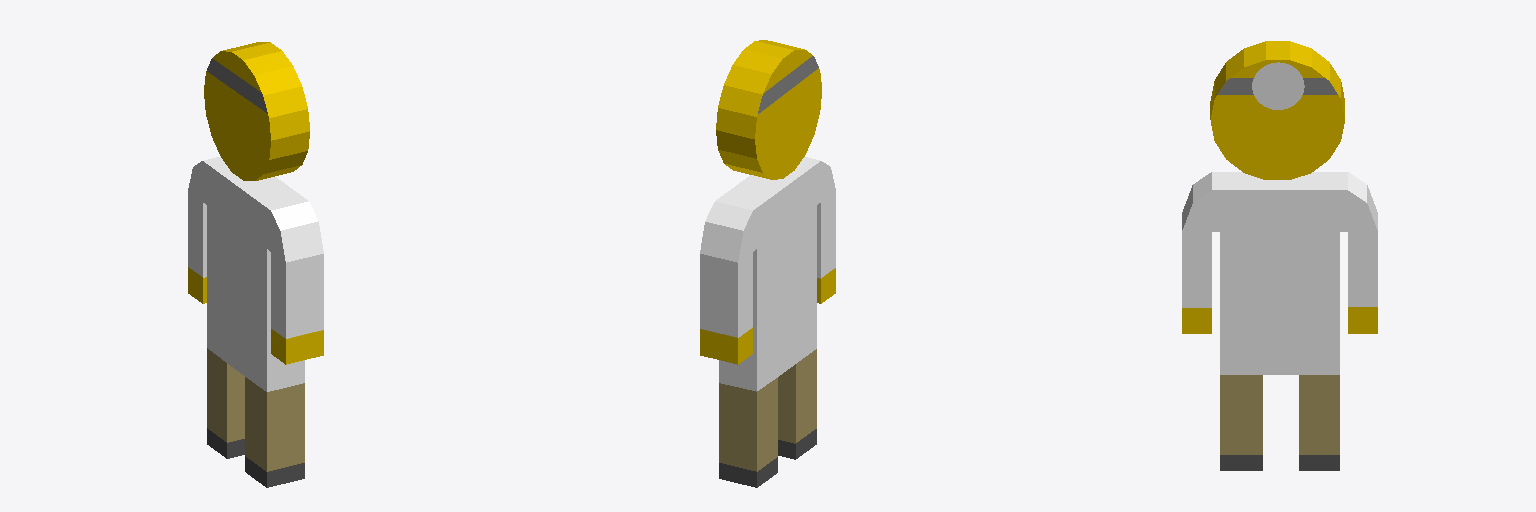
The picture shows the model from 3 angles: view 1: azimuth 30°, elevation 25°; view 2: azimuth 150°, elevation 25°; view 3: azimuth 270°, elevation 25°; orthographic projection.
Visible parts, largest first — view 1: Cube.036_Cube.021, Cylinder.001; view 2: Cube.036_Cube.021, Cylinder.001; view 3: Cube.036_Cube.021, Cylinder.001.
Part boxes in pixels (x1,y1,x2,y2): Cube.036_Cube.021: (188,156,323,487); Cylinder.001: (204,42,309,180); Cube.036_Cube.021: (700,157,835,487); Cylinder.001: (716,40,821,179); Cube.036_Cube.021: (1182,172,1377,470); Cylinder.001: (1210,41,1344,179).
Size of the model in its own units: 0.5518 by 5.54 by 2.39.
2 materials, 2 textured.